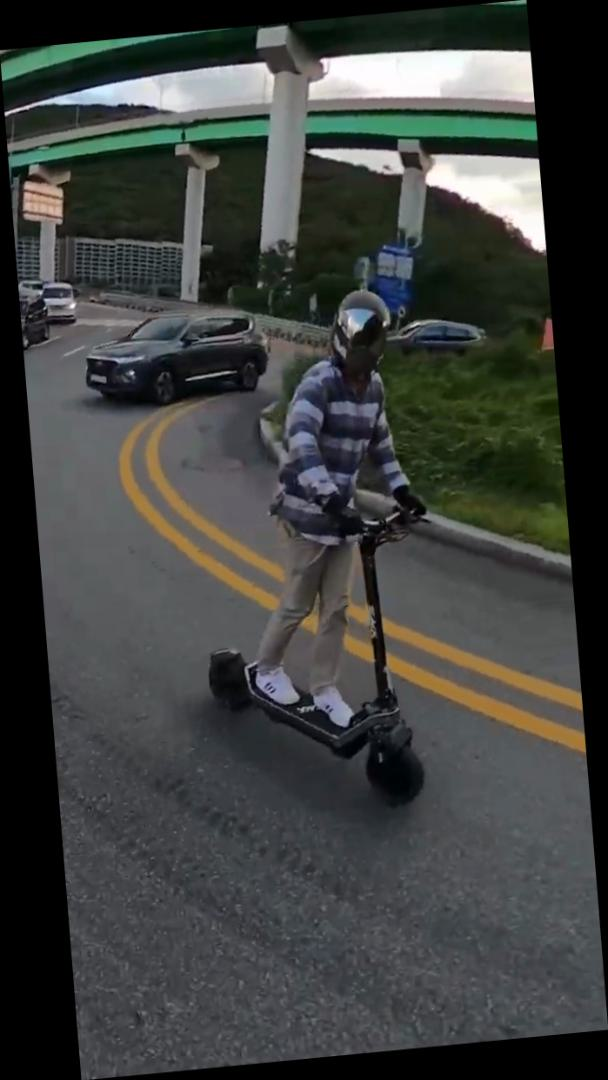helmet: (177, 282, 458, 830)
